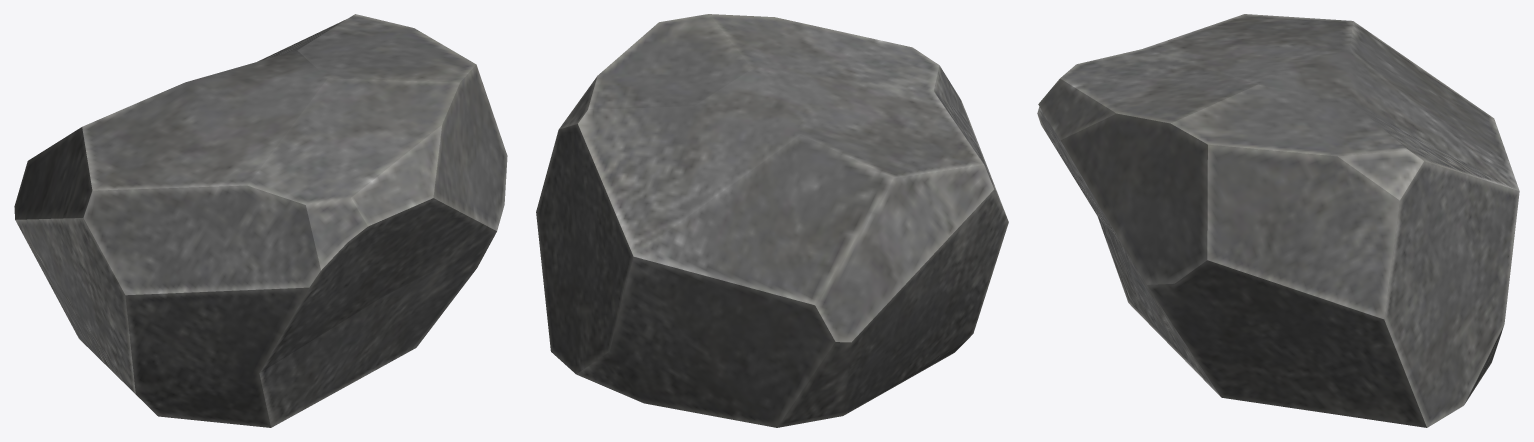
The model's file is Rock01_Dream.glb.
3 views of the same model, side by side, from view 1: azimuth 30°, elevation 25°; view 2: azimuth 150°, elevation 25°; view 3: azimuth 270°, elevation 25° (orthographic). The views are drawn at different scales.
Parts seen in each view (by area): view 1: rock01_dream; view 2: rock01_dream; view 3: rock01_dream.
Part boxes in pixels (x1,y1,x2,y2): rock01_dream: [14, 14, 507, 427]; rock01_dream: [536, 14, 1008, 427]; rock01_dream: [1037, 14, 1519, 427].
Size of the model in its own units: 0.5856 by 0.3929 by 0.5725.
1 material, 1 textured.
